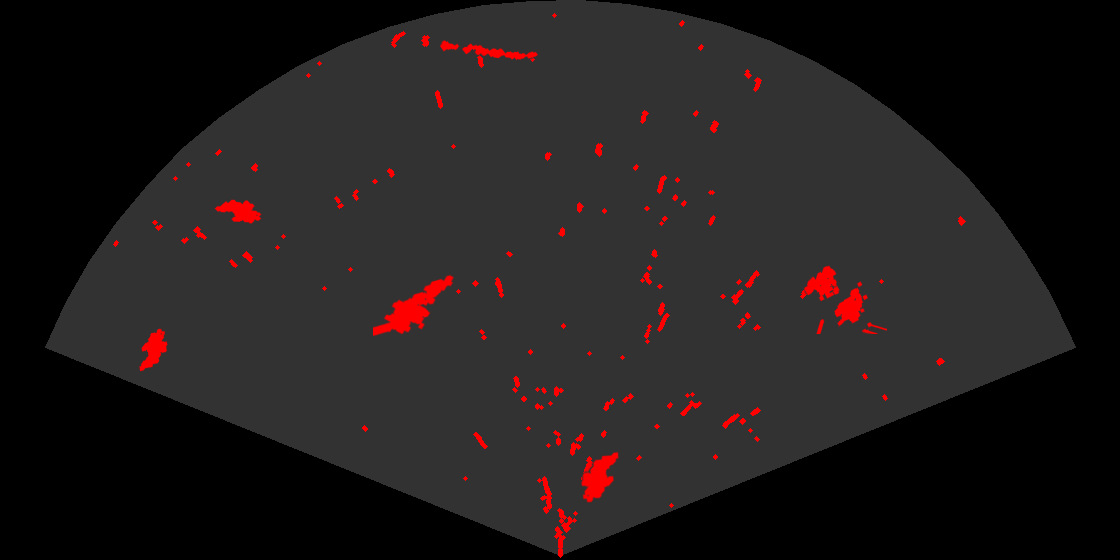AUV: (579, 450, 620, 504), (138, 327, 169, 373), (213, 198, 263, 225)
cage: (802, 264, 887, 334)
chain: (438, 39, 539, 62)
frogman: (373, 273, 455, 338)
